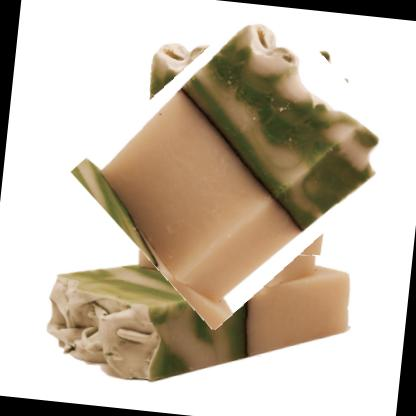soap: (87, 0, 394, 327), (33, 230, 365, 407)
